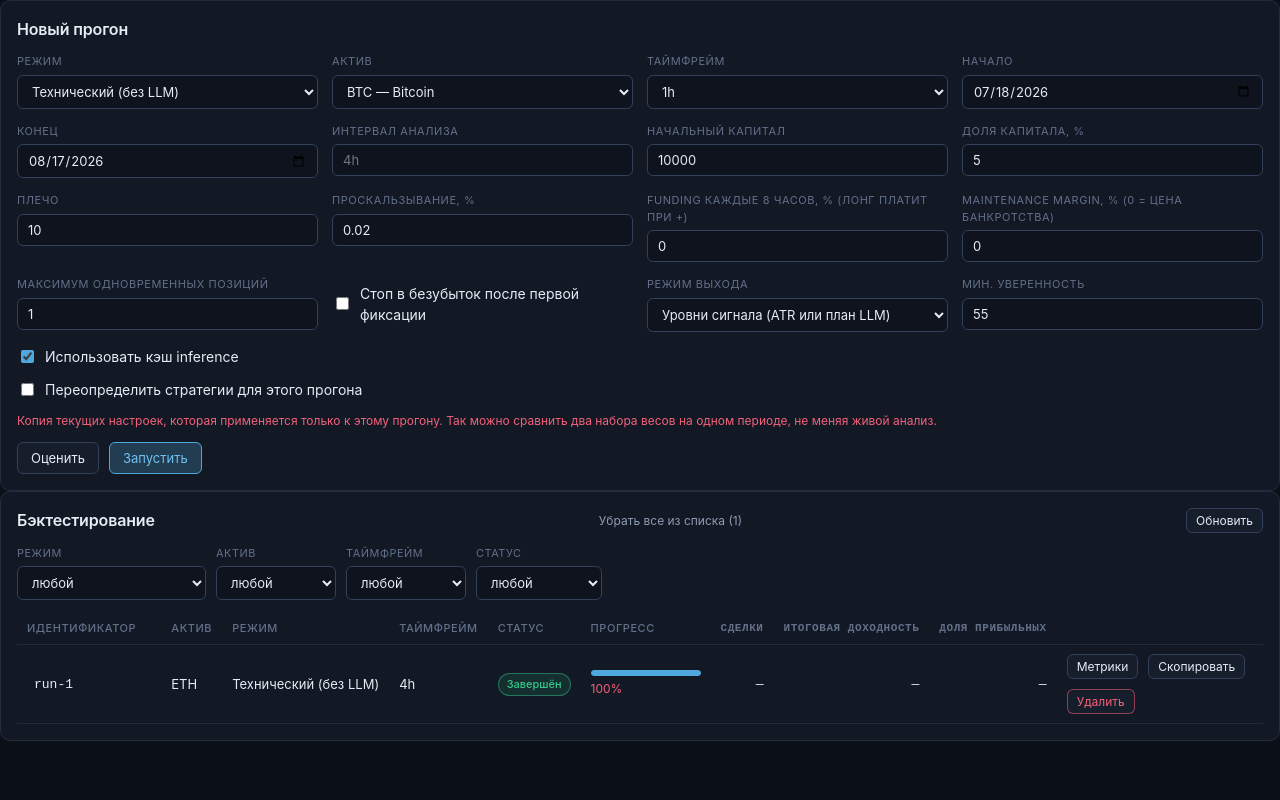
Scenario: BacktestingPage copy › refills every parameter of a previous run, including dates, interval and leverage
Click the button "Скопировать". click: (1197, 667)
box: [1148,654,1245,679]
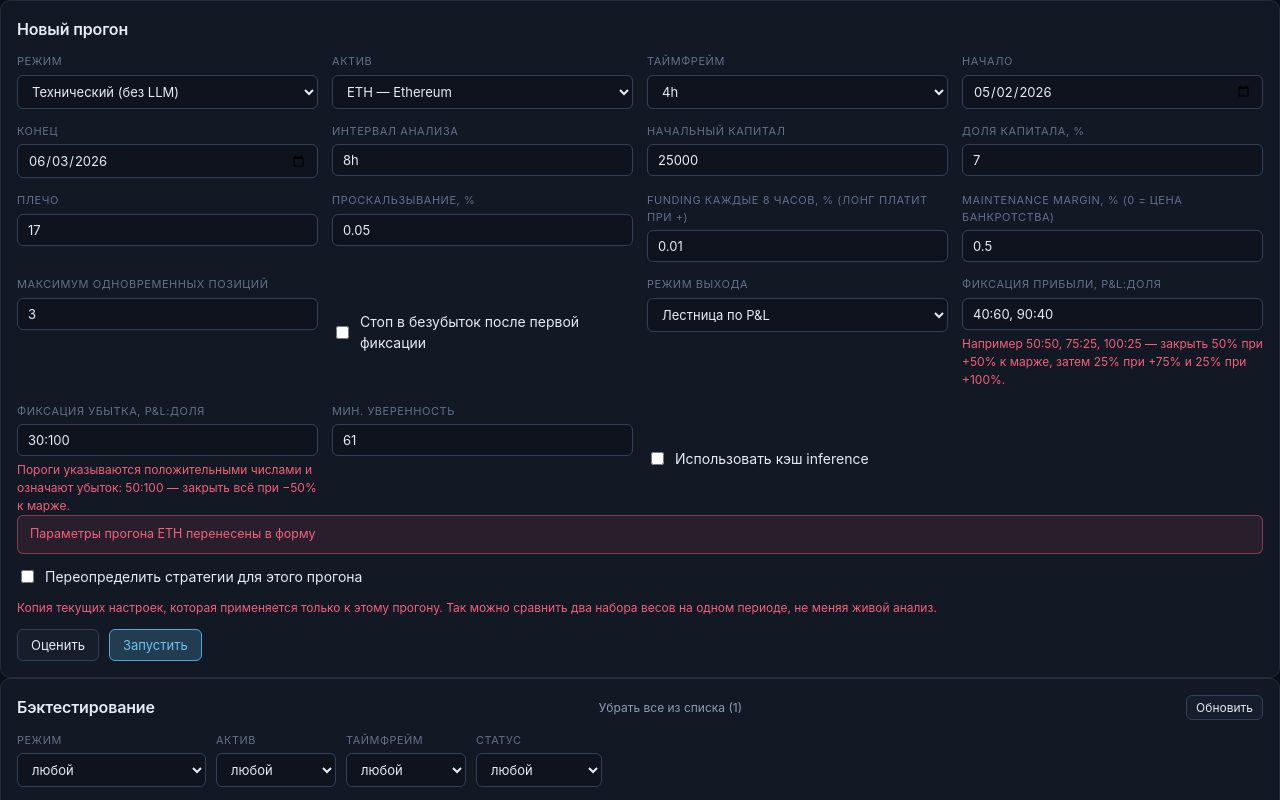
Expected: the date field labelled "Начало" holds "2026-05-02", [962,74,1263,108]
Expected: the date field labelled "Конец" holds "2026-06-03", [17,144,318,178]
Expected: the field labelled "Интервал анализа" holds "8h", [332,144,633,176]
